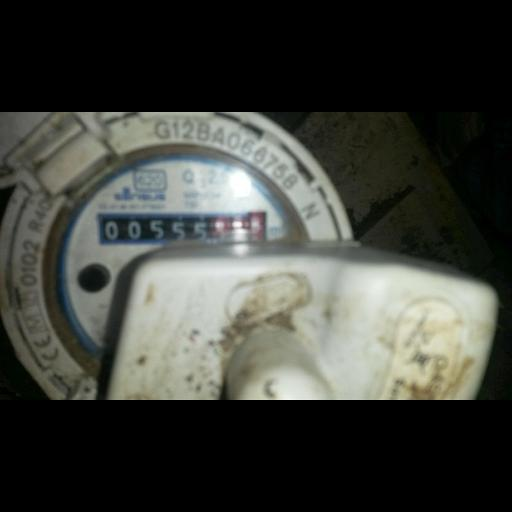0: (125, 219, 146, 242), (103, 219, 123, 242)
5: (189, 217, 211, 242), (147, 217, 168, 241), (168, 218, 189, 242)
border_water_meter_number: (97, 211, 267, 245)
